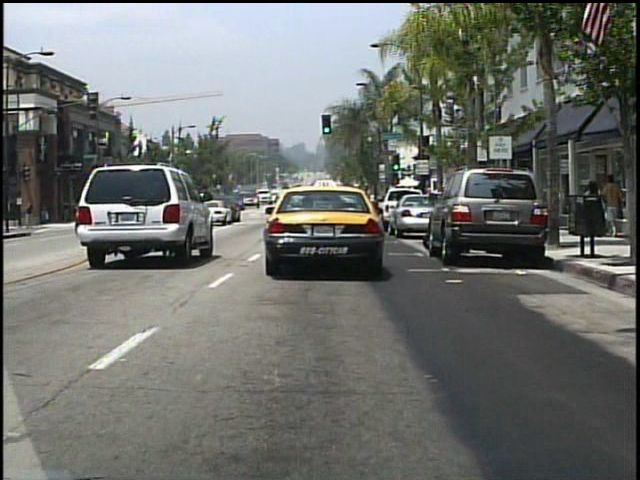person: (605, 171, 624, 233), (589, 181, 608, 241)
